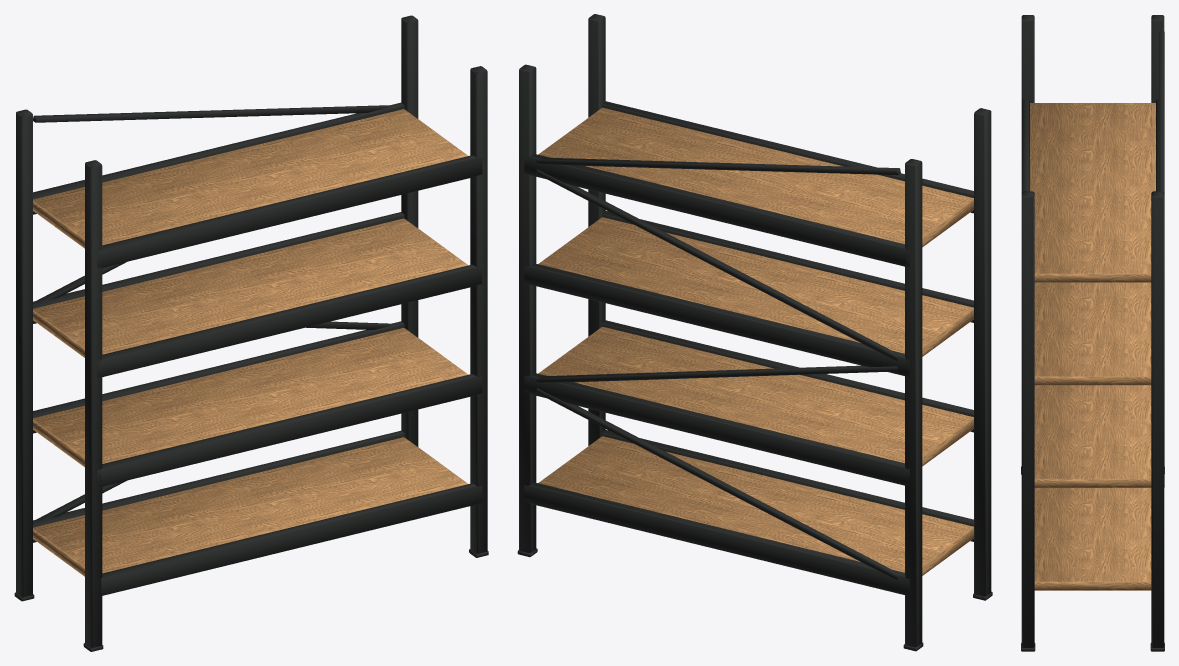
File: asset_064_stockroom_shelving_system.glb
The picture shows the model from 3 angles, left to right: view 1: azimuth 30°, elevation 25°; view 2: azimuth 150°, elevation 25°; view 3: azimuth 270°, elevation 25°; orthographic projection. The views are drawn at different scales.
Parts seen in each view (by area): view 1: MESH_AdjustableShelfDeckSet, MESH_ShelfLipSet, MESH_ShelvingUprightSet, MESH_RearCrossBraceSet; view 2: MESH_AdjustableShelfDeckSet, MESH_ShelfLipSet, MESH_ShelvingUprightSet, MESH_RearCrossBraceSet; view 3: MESH_AdjustableShelfDeckSet, MESH_ShelvingUprightSet, MESH_RearCrossBraceSet, MESH_ShelfLipSet.
Boxes of the visible parts, <box> form: MESH_AdjustableShelfDeckSet: <box>33,109,468,576</box>; MESH_ShelfLipSet: <box>33,102,482,595</box>; MESH_ShelvingUprightSet: <box>16,15,487,647</box>; MESH_RearCrossBraceSet: <box>33,105,391,520</box>; MESH_AdjustableShelfDeckSet: <box>538,107,973,575</box>; MESH_ShelfLipSet: <box>524,101,973,595</box>; MESH_ShelvingUprightSet: <box>519,14,991,647</box>; MESH_RearCrossBraceSet: <box>536,157,900,580</box>; MESH_AdjustableShelfDeckSet: <box>1030,103,1155,590</box>; MESH_ShelvingUprightSet: <box>1021,15,1164,647</box>; MESH_RearCrossBraceSet: <box>1159,31,1164,487</box>; MESH_ShelfLipSet: <box>1021,99,1158,192</box>.
Bounding box in the file's own units: 1.83 × 2.13 × 0.61.
3 materials, 1 textured.
